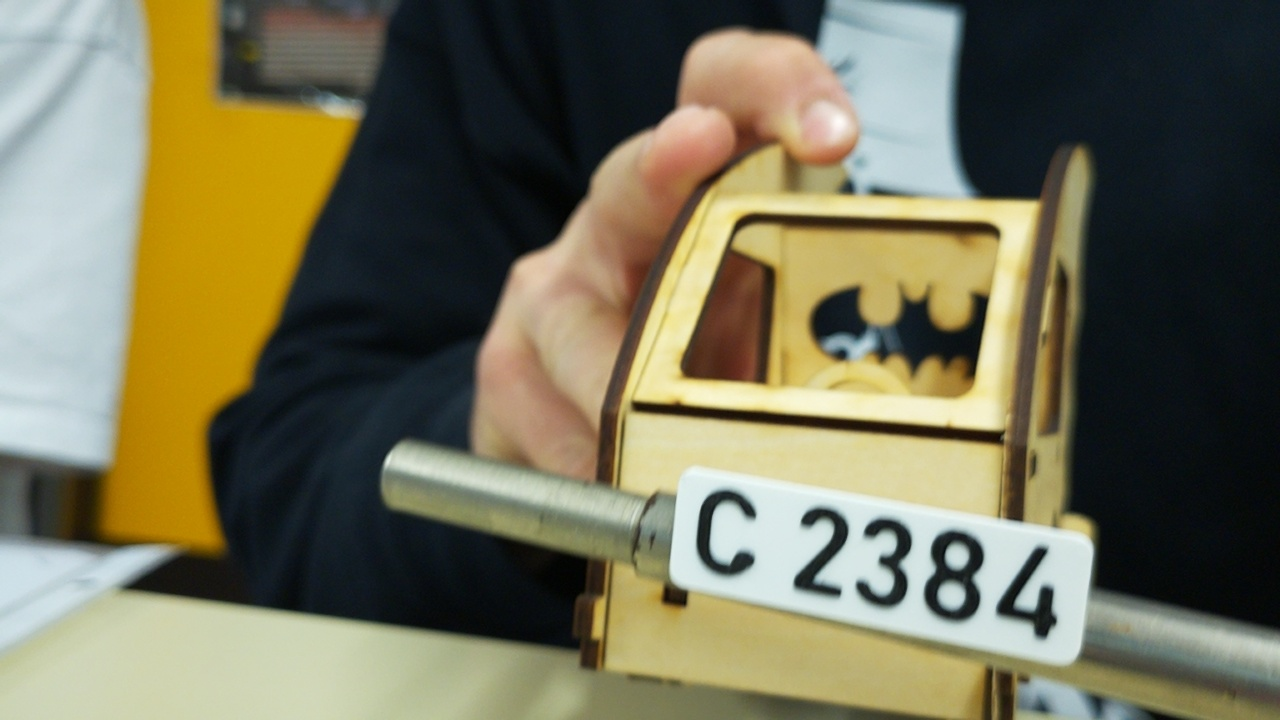license_plate: (668, 460, 1096, 670)
